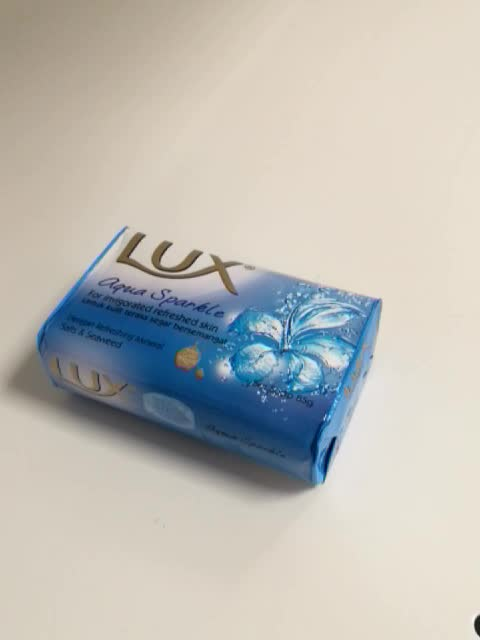soap: (32, 224, 385, 490)
